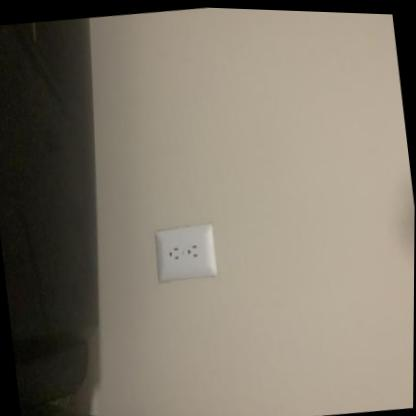OUTLET: (153, 218, 218, 283)
